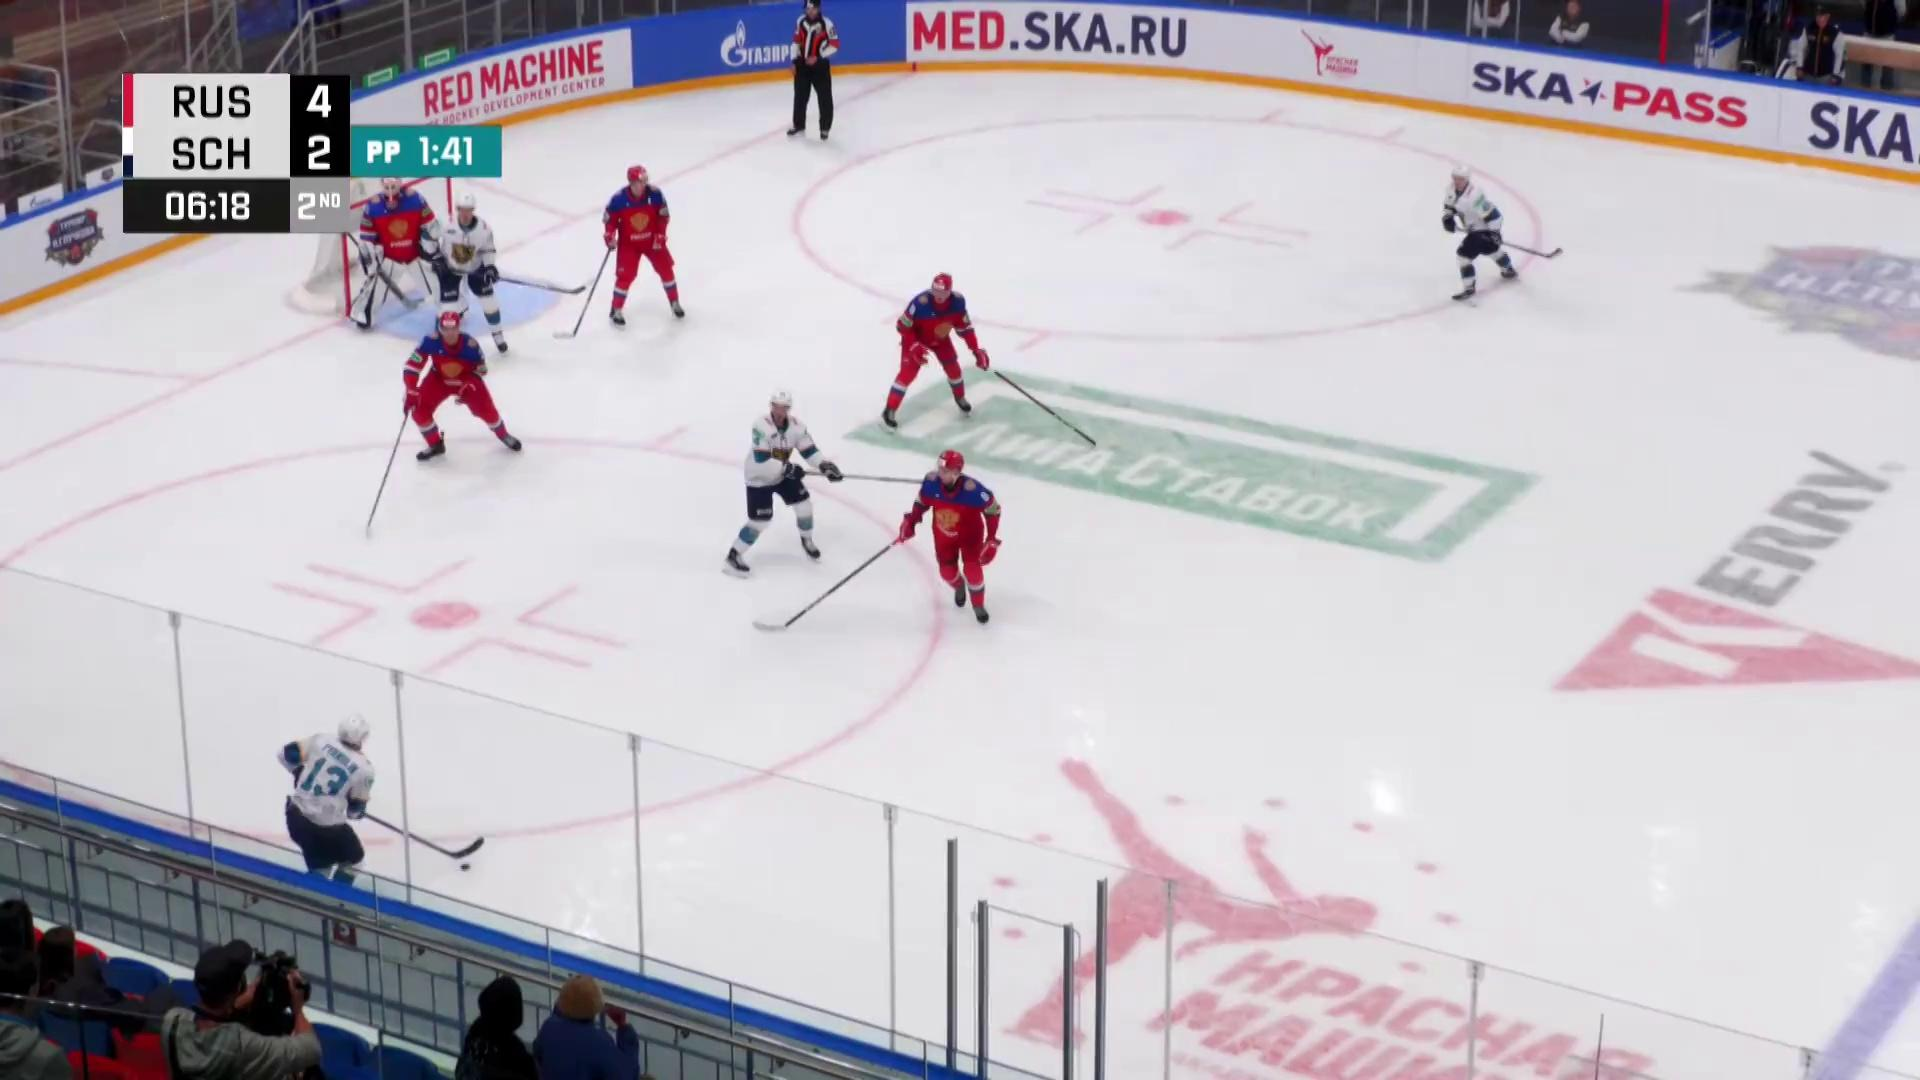ball: (459, 862, 472, 874)
